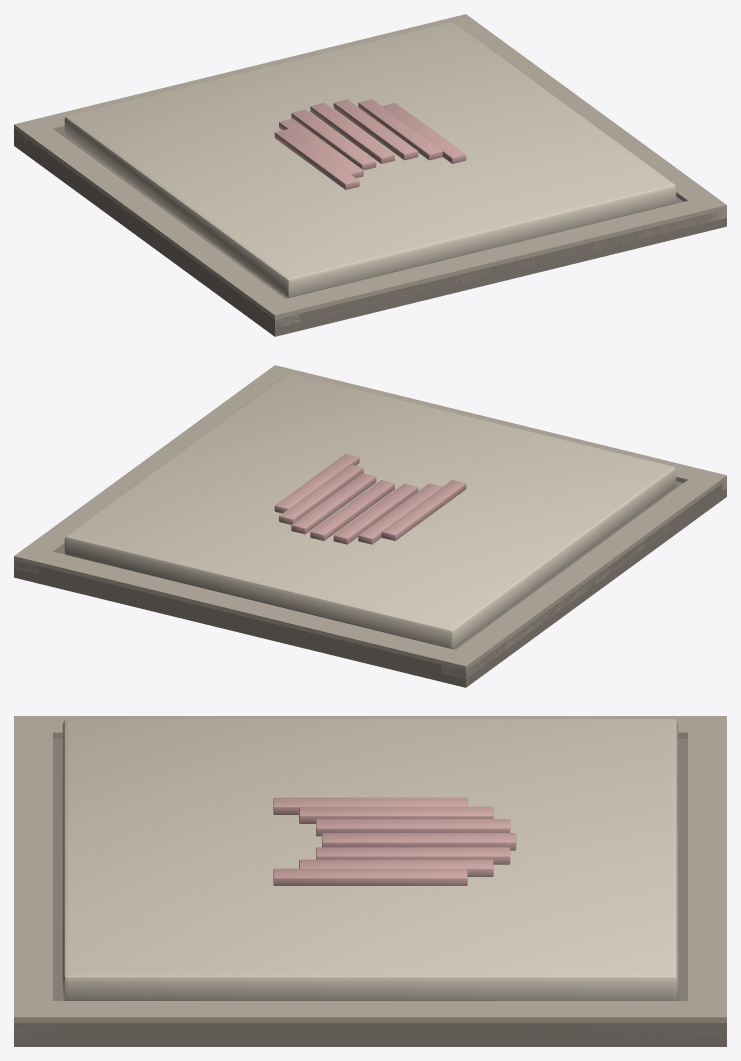
The model's file is dk_plate.gltf.
3 views of the same model, one above another, from view 1: azimuth 30°, elevation 25°; view 2: azimuth 150°, elevation 25°; view 3: azimuth 270°, elevation 25° (orthographic). The views are drawn at different scales.
Visible parts, largest first — view 1: Plate, Body; view 2: Plate, Body; view 3: Plate, Body.
Part boxes in pixels (x1,y1,x2,y2): Plate: [64, 22, 676, 297]; Body: [14, 14, 726, 336]; Plate: [64, 373, 676, 648]; Body: [14, 365, 726, 687]; Plate: [62, 718, 678, 1000]; Body: [14, 716, 726, 1046].
Size of the model in its own units: 2.2 by 0.2 by 2.2.
